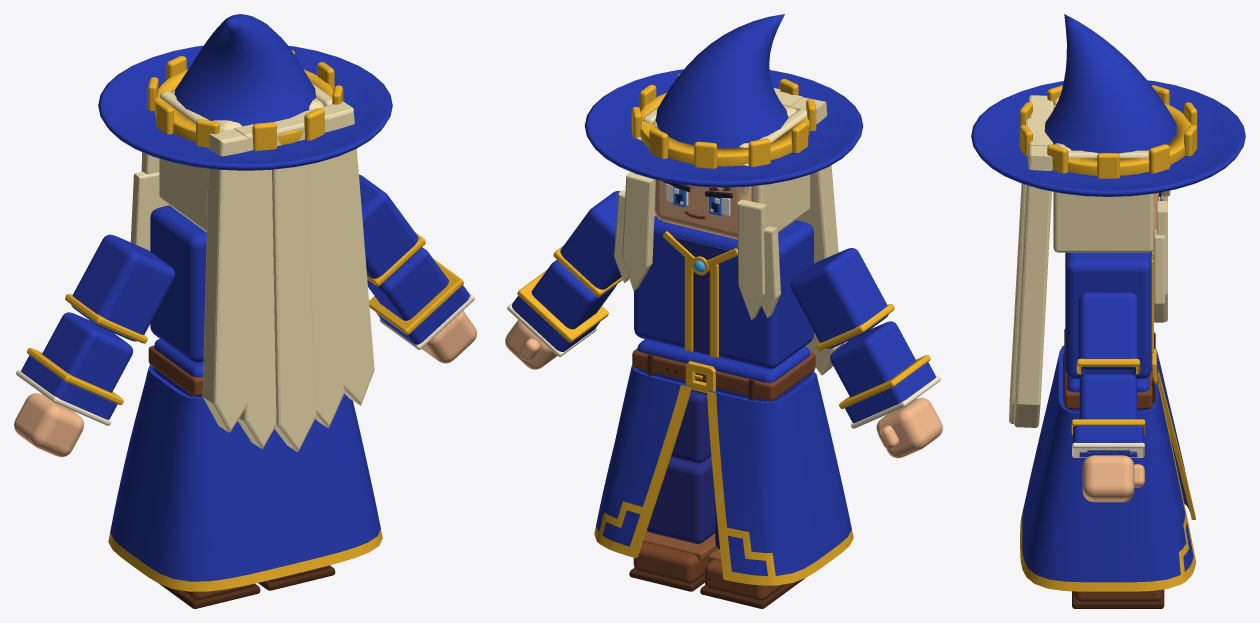
File: arcanist_female.glb
The picture shows the model from 3 angles, left to right: view 1: azimuth 30°, elevation 25°; view 2: azimuth 150°, elevation 25°; view 3: azimuth 270°, elevation 25°; orthographic projection. The views are drawn at different scales.
Parts seen in each view (by area): view 1: Hair, RobeSkirt, Hat, LeftLowerArm, LeftUpperArm, UpperTorso, RightLowerArm, RightUpperArm, LeftHand, LowerTorso, RightHand, LeftFoot (+1 smaller); view 2: RobeSkirt, Hat, UpperTorso, Hair, LeftLowerArm, LeftUpperArm, LowerTorso, RightLowerArm, RightLowerLeg, RightUpperArm, Head, RightFoot (+4 smaller); view 3: Hat, RobeSkirt, Hair, UpperTorso, RightLowerArm, RightUpperArm, RightHand, RightFoot, LowerTorso.
Boxes of the visible parts, x1,y1,x2,y2 form: Hair: (130,83,374,451); RobeSkirt: (108,365,382,591); Hat: (98,14,392,170); LeftLowerArm: (16,312,132,425); LeftUpperArm: (65,234,175,343); UpperTorso: (150,205,206,362); RightLowerArm: (367,247,474,349); RightUpperArm: (359,174,425,286); LeftHand: (14,393,83,457); LowerTorso: (148,339,203,396); RightHand: (422,311,476,363); LeftFoot: (160,583,260,608); RobeSkirt: (594,365,853,585); Hat: (584,14,863,187); UpperTorso: (634,216,813,368); Hair: (614,88,844,375); LeftLowerArm: (830,321,940,428); LeftUpperArm: (790,248,894,350); LowerTorso: (632,339,815,401); RightLowerArm: (507,260,616,356); RightLowerLeg: (647,456,715,543); RightUpperArm: (553,191,622,296); Head: (654,180,751,239); RightFoot: (629,531,717,591); Hat: (971,14,1245,196); RobeSkirt: (1020,345,1195,591); Hair: (1009,95,1170,427); UpperTorso: (1065,250,1153,378); RightLowerArm: (1071,374,1145,457); RightUpperArm: (1076,292,1140,374); RightHand: (1082,455,1144,502); RightFoot: (1072,589,1164,608); LowerTorso: (1064,328,1156,411).
Bounding box in the file's own units: 4.98 × 6.26 × 2.86.
